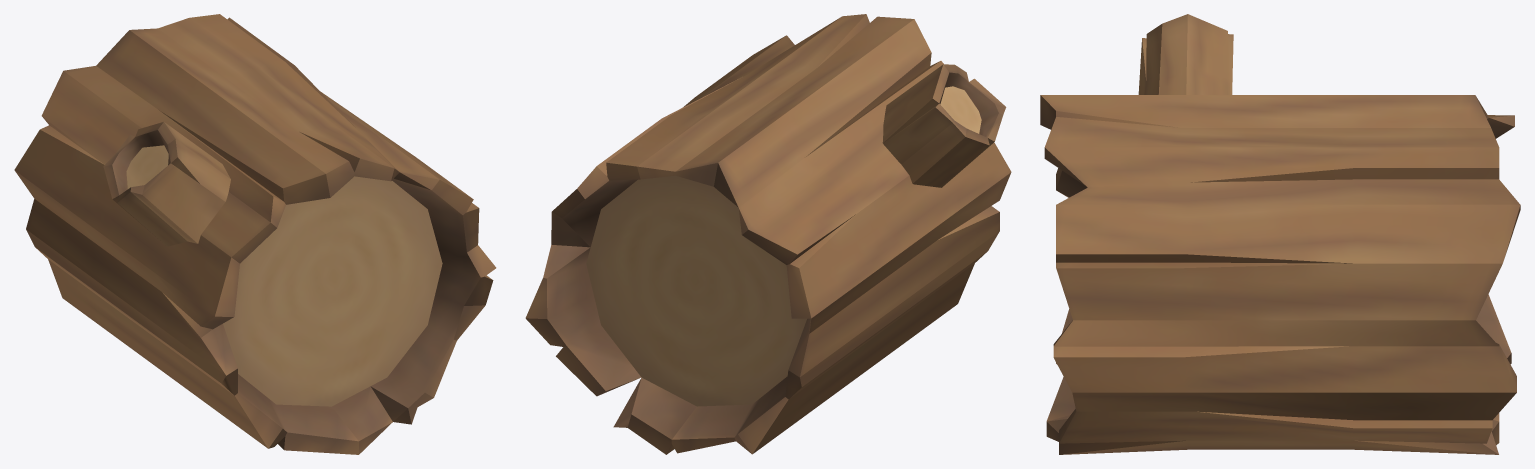
The model's file is log_obj.fbx.
3 renders of one model, left to right at view 1: azimuth 30°, elevation 25°; view 2: azimuth 150°, elevation 25°; view 3: azimuth 270°, elevation 25°, orthographic. The views are drawn at different scales.
Parts seen in each view (by area): view 1: log_obj; view 2: log_obj; view 3: log_obj.
Part boxes in pixels (x1,y1,x2,y2): log_obj: [14, 14, 496, 454]; log_obj: [525, 14, 1011, 454]; log_obj: [1040, 14, 1520, 454].
Bounding box in the file's own units: 2.5 × 2.39 × 2.93.
